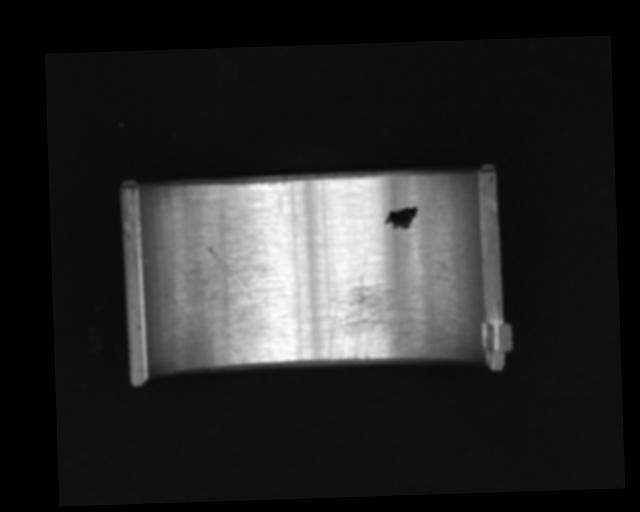blot: (382, 205, 419, 230)
nick: (204, 244, 249, 300)
scratch: (326, 273, 442, 365)
